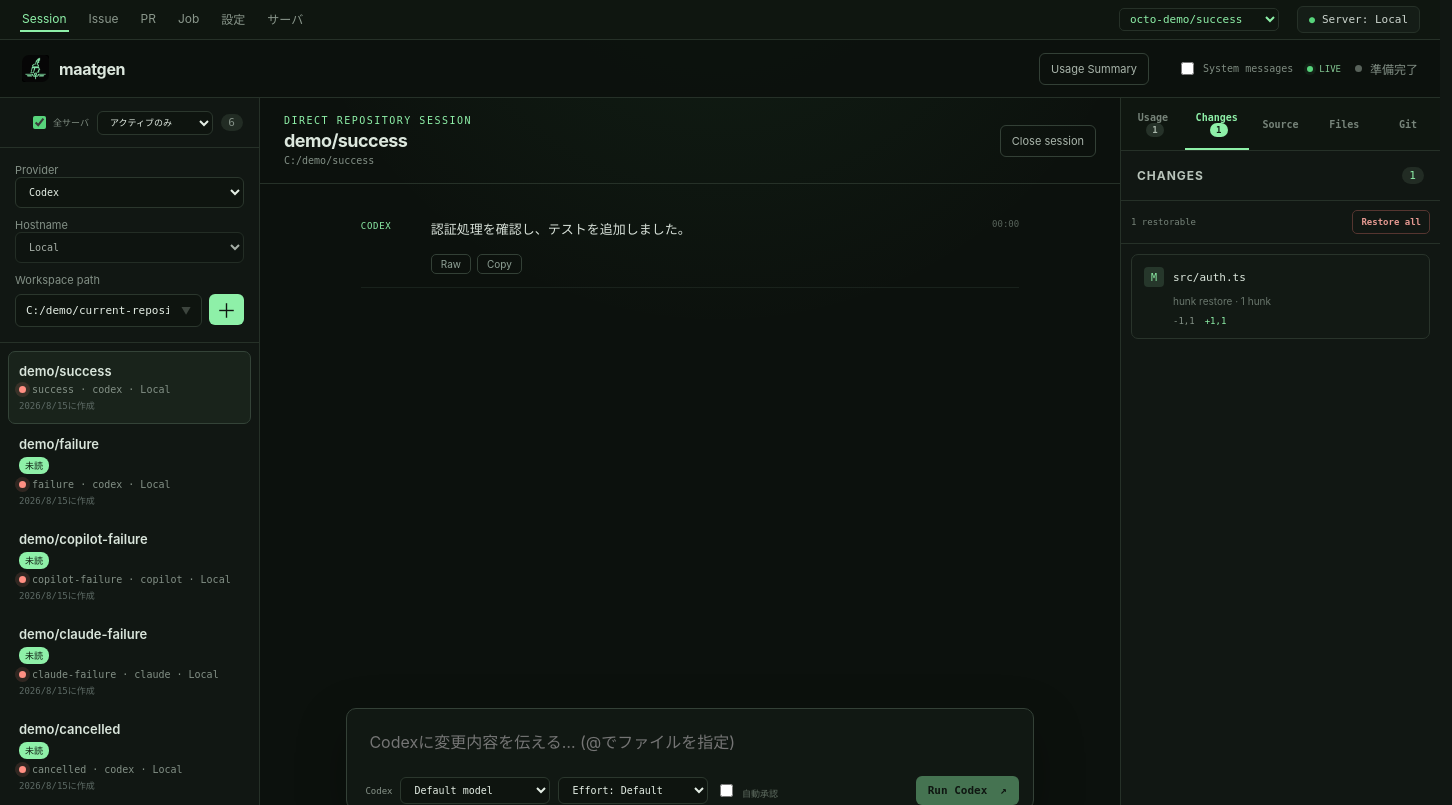
Test: Node relay › shows Local as the default node without an add action
The image size is (1452, 805).
Click the button with class "node-selector-toggle" at coordinates (1358, 20), box left=1297, top=6, right=1420, bottom=33
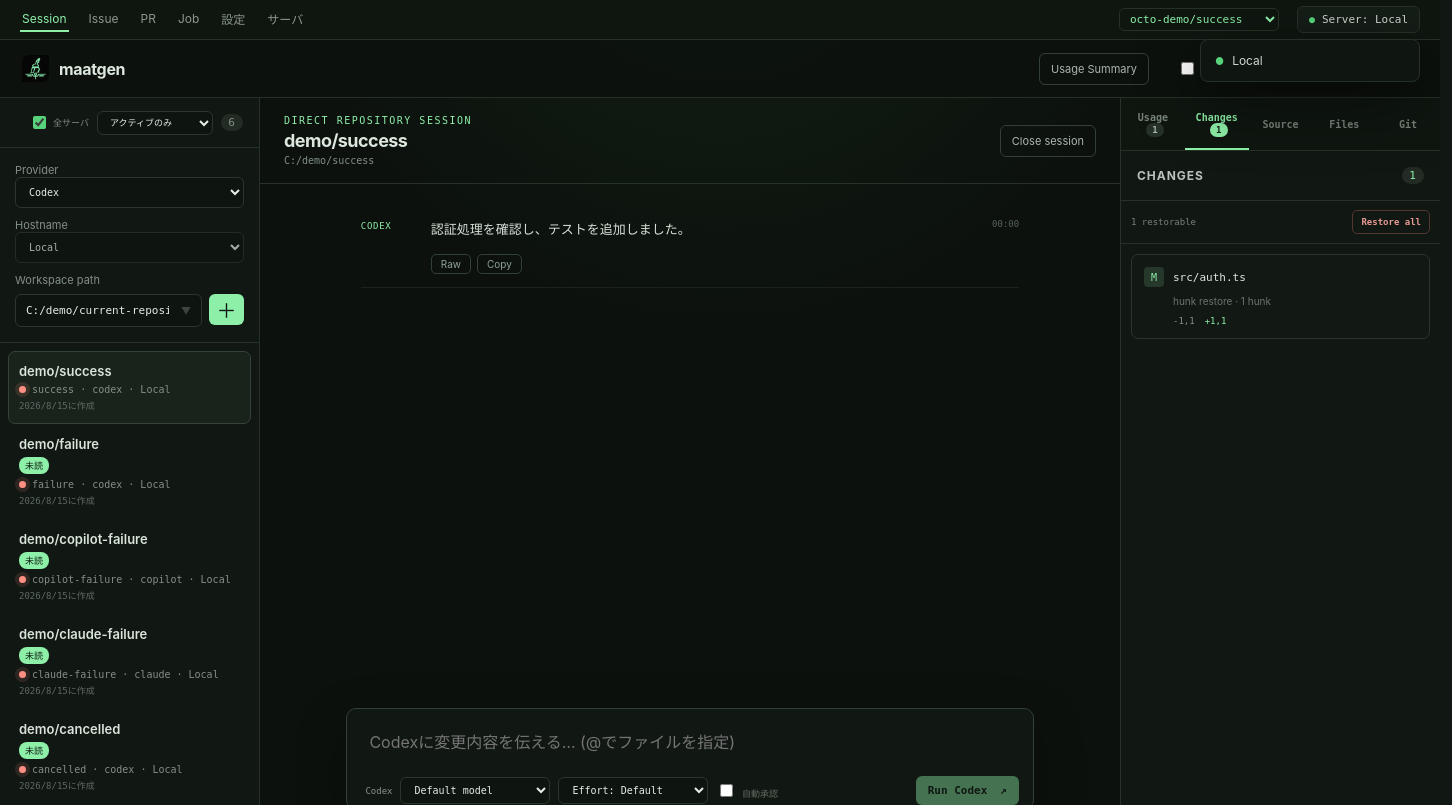
Check: the list with class "node-selector-list" is shown, box left=1200, top=39, right=1420, bottom=82
Check: the list with class "node-selector-list" shows "Local", box left=1207, top=46, right=1413, bottom=75
